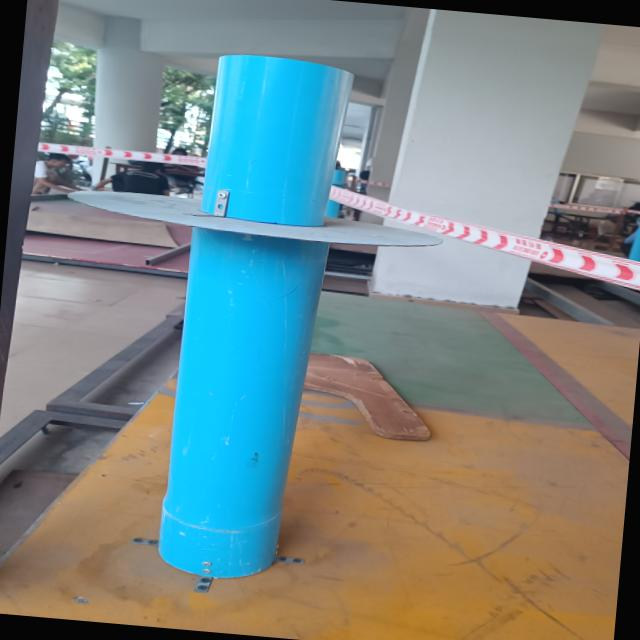pole: (20, 28, 482, 406)
